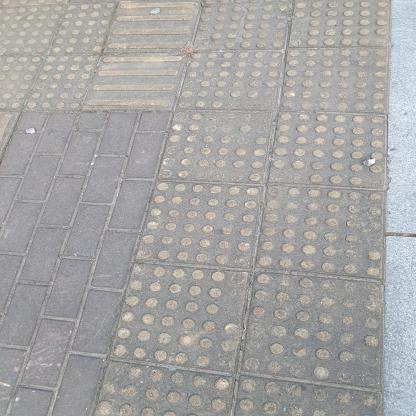podotacti: (89, 111, 392, 415), (0, 0, 398, 118)
